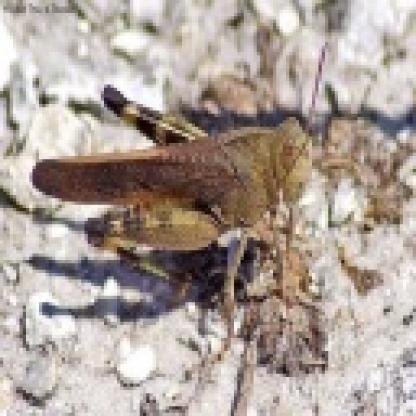grasshopper: (28, 74, 332, 316)
